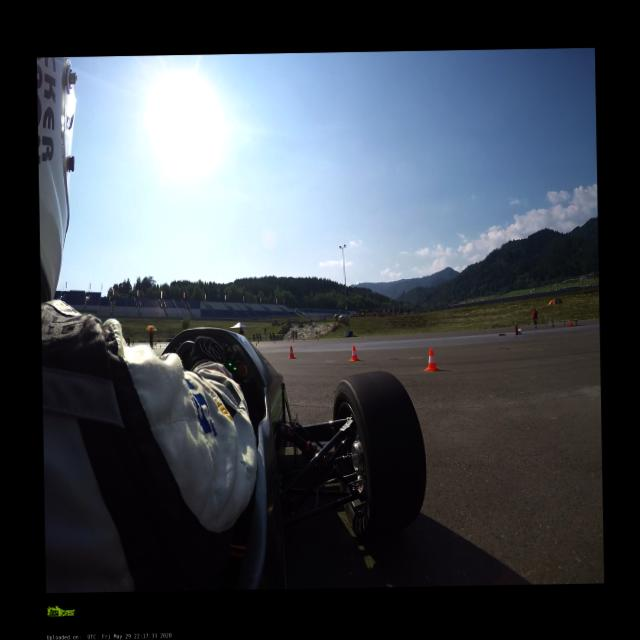orange_cone: (425, 348, 438, 371), (349, 346, 358, 360), (288, 345, 295, 358)
